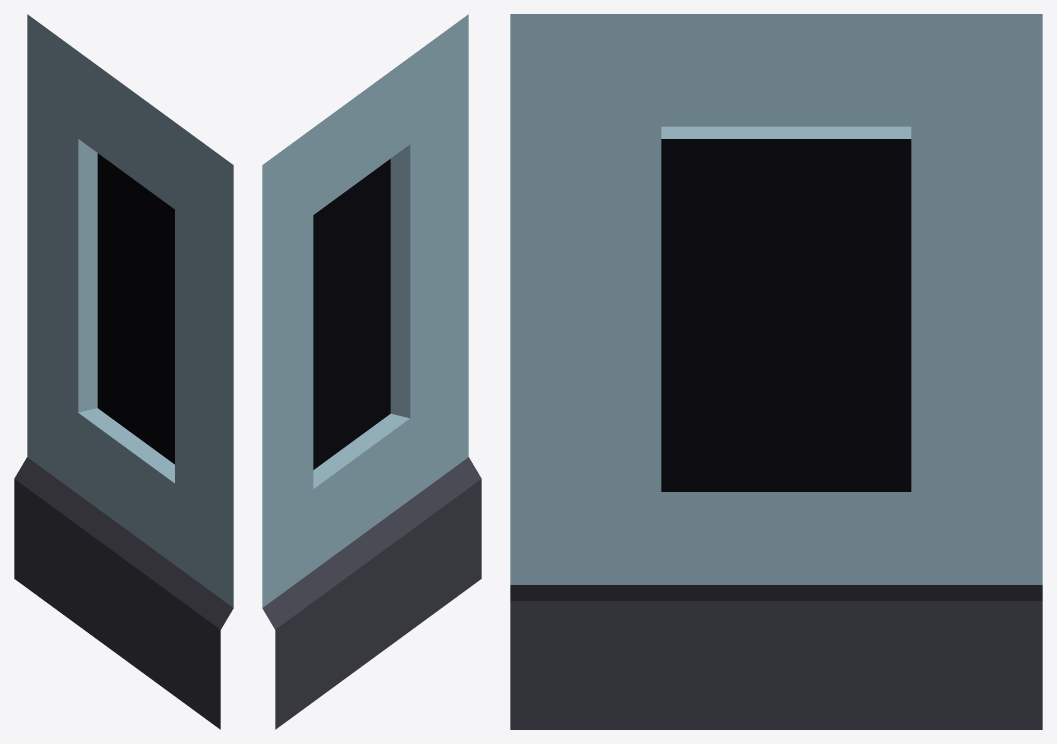
Rendered from B1_wall_bottom_window.FBX.
3 views of the same model, side by side, from view 1: azimuth 30°, elevation 25°; view 2: azimuth 150°, elevation 25°; view 3: azimuth 270°, elevation 25° (orthographic). The views are drawn at different scales.
Visible parts, largest first — view 1: B1_wall_bottom_window; view 2: B1_wall_bottom_window; view 3: B1_wall_bottom_window.
Part boxes in pixels (box(x1,y1,x2,y2)): B1_wall_bottom_window: box(14, 14, 233, 729); B1_wall_bottom_window: box(262, 14, 481, 729); B1_wall_bottom_window: box(510, 14, 1042, 729).
Size of the model in its own units: 18.05 by 300 by 200.
